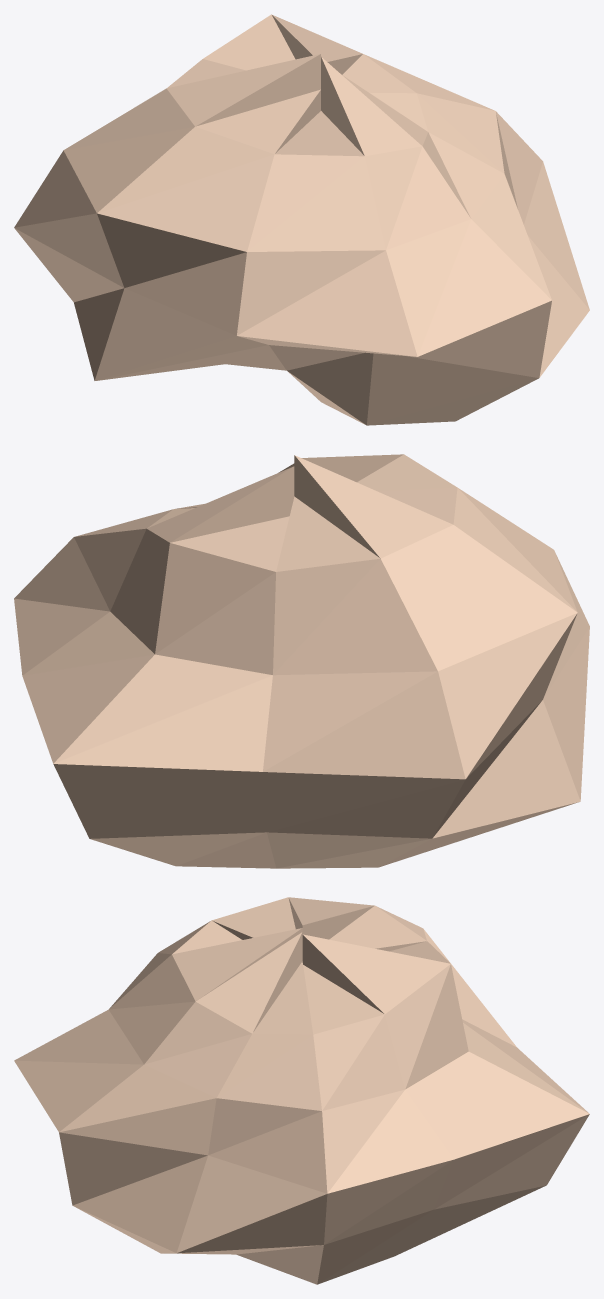
The model's file is rock_069.obj.
3 renders of one model, top to bottom at view 1: azimuth 30°, elevation 25°; view 2: azimuth 150°, elevation 25°; view 3: azimuth 270°, elevation 25°, orthographic. The views are drawn at different scales.
Size of the model in its own units: 1.01 by 0.7084 by 1.15.
